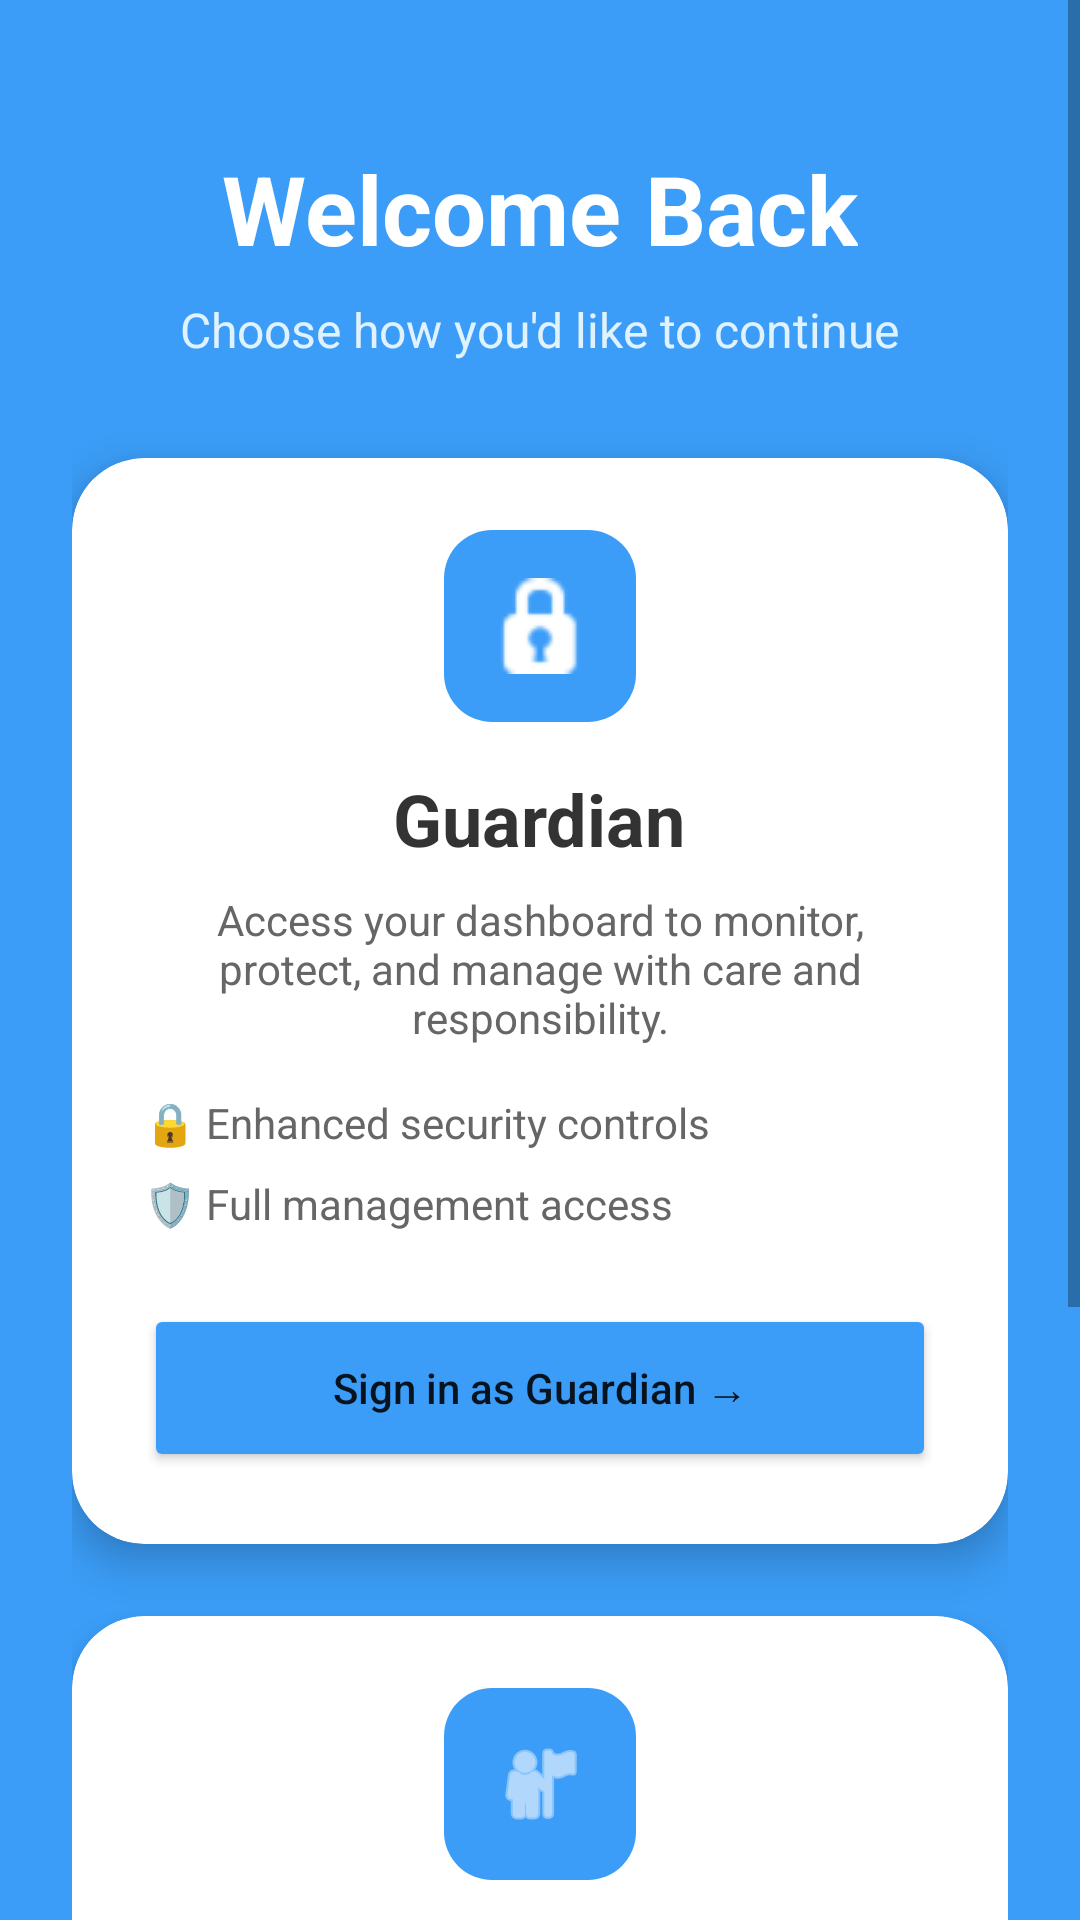

Screen size 1080px×1920px. Icon name, then its center in pixels as (x=x, y=y):
secure: (x=540, y=626)
